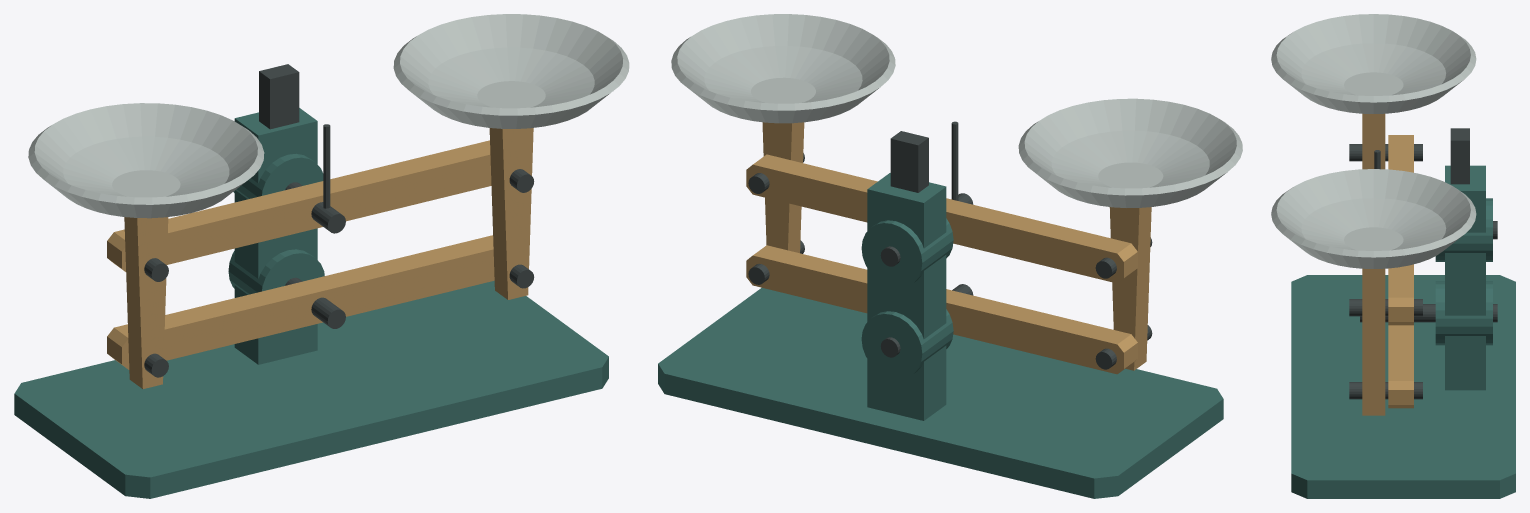
3 renders of one model, left to right at view 1: azimuth 30°, elevation 25°; view 2: azimuth 150°, elevation 25°; view 3: azimuth 270°, elevation 25°, orthographic. The views are drawn at different scales.
Parts seen in each view (by area): view 1: WholeBroadChamferedBase, LeftWholeOpenShallowPan, RightWholeOpenShallowPan, LowerWholeLongParallelBeam, UpperWholeLongParallelBeam, WholeRearCentralUpright, RightWholeUprightPanLink, LeftWholeUprightPanLink, LowerWholeBoredPivotSeat, WholeBlankReferenceUpright, UpperWholeBoredPivotSeat, LowerWholeFixedTransverseAxis (+2 smaller); view 2: WholeBroadChamferedBase, RightWholeOpenShallowPan, LeftWholeOpenShallowPan, UpperWholeLongParallelBeam, LowerWholeLongParallelBeam, WholeRearCentralUpright, LeftWholeUprightPanLink, LowerWholeBoredPivotSeat, UpperWholeBoredPivotSeat, RightWholeUprightPanLink, WholeBlankReferenceUpright, WholeCentralRisingPointer; view 3: WholeBroadChamferedBase, RightWholeOpenShallowPan, LeftWholeOpenShallowPan, WholeRearCentralUpright, RightWholeUprightPanLink, UpperWholeLongParallelBeam, LowerWholeLongParallelBeam, LowerWholeBoredPivotSeat, LeftWholeUprightPanLink, UpperWholeBoredPivotSeat, WholeBlankReferenceUpright, LeftUpperWholeEndPivotPin (+3 smaller).
Part boxes in pixels (left/top/right/bottom): WholeBroadChamferedBase: left=14, top=280, right=608, bottom=498; LeftWholeOpenShallowPan: left=28, top=103, right=264, bottom=218; RightWholeOpenShallowPan: left=393, top=14, right=629, bottom=128; LowerWholeLongParallelBeam: left=107, top=235, right=494, bottom=369; UpperWholeLongParallelBeam: left=107, top=140, right=491, bottom=271; WholeRearCentralUpright: left=234, top=108, right=317, bottom=364; RightWholeUprightPanLink: left=489, top=128, right=533, bottom=299; LeftWholeUprightPanLink: left=124, top=217, right=168, bottom=388; LowerWholeBoredPivotSeat: left=228, top=249, right=324, bottom=294; WholeBlankReferenceUpright: left=259, top=64, right=299, bottom=129; UpperWholeBoredPivotSeat: left=233, top=153, right=323, bottom=199; LowerWholeFixedTransverseAxis: left=285, top=277, right=345, bottom=328; WholeBroadChamferedBase: left=658, top=288, right=1223, bottom=498; RightWholeOpenShallowPan: left=671, top=14, right=895, bottom=123; LeftWholeOpenShallowPan: left=1018, top=98, right=1242, bottom=207; UpperWholeLongParallelBeam: left=746, top=154, right=1137, bottom=283; LowerWholeLongParallelBeam: left=746, top=245, right=1137, bottom=374; WholeRearCentralUpright: left=867, top=173, right=946, bottom=420; LeftWholeUprightPanLink: left=1109, top=207, right=1151, bottom=370; LowerWholeBoredPivotSeat: left=861, top=309, right=953, bottom=378; UpperWholeBoredPivotSeat: left=861, top=218, right=953, bottom=288; RightWholeUprightPanLink: left=762, top=122, right=804, bottom=253; WholeBlankReferenceUpright: left=890, top=131, right=928, bottom=192; WholeCentralRisingPointer: left=951, top=121, right=958, bottom=200; WholeBroadChamferedBase: left=1291, top=275, right=1515, bottom=498; RightWholeOpenShallowPan: left=1271, top=169, right=1476, bottom=268; LeftWholeOpenShallowPan: left=1271, top=14, right=1476, bottom=113; WholeRearCentralUpright: left=1445, top=165, right=1485, bottom=390; RightWholeUprightPanLink: left=1362, top=268, right=1385, bottom=415; UpperWholeLongParallelBeam: left=1388, top=135, right=1413, bottom=325; LowerWholeLongParallelBeam: left=1388, top=325, right=1413, bottom=408; LowerWholeBoredPivotSeat: left=1435, top=281, right=1492, bottom=345; LeftWholeUprightPanLink: left=1362, top=113, right=1385, bottom=169; UpperWholeBoredPivotSeat: left=1435, top=198, right=1492, bottom=261; WholeBlankReferenceUpright: left=1450, top=128, right=1469, bottom=184; LeftUpperWholeEndPivotPin: left=1349, top=144, right=1422, bottom=161.
Size of the model in its own units: 1.25 by 0.635 by 0.534.
